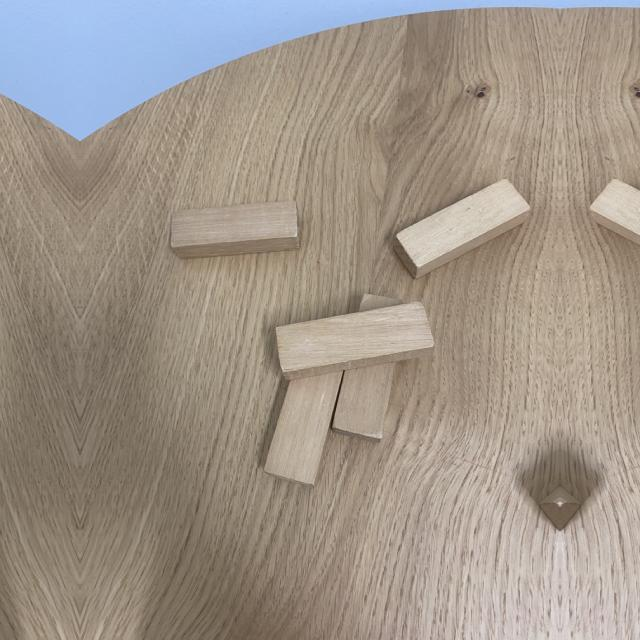jenga: (396, 176, 531, 276), (278, 303, 436, 383), (333, 292, 403, 441), (264, 369, 343, 481), (169, 199, 301, 263), (589, 176, 640, 245)
